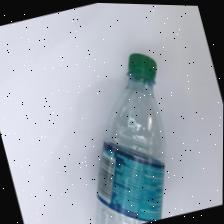plastic: (97, 51, 166, 224)
